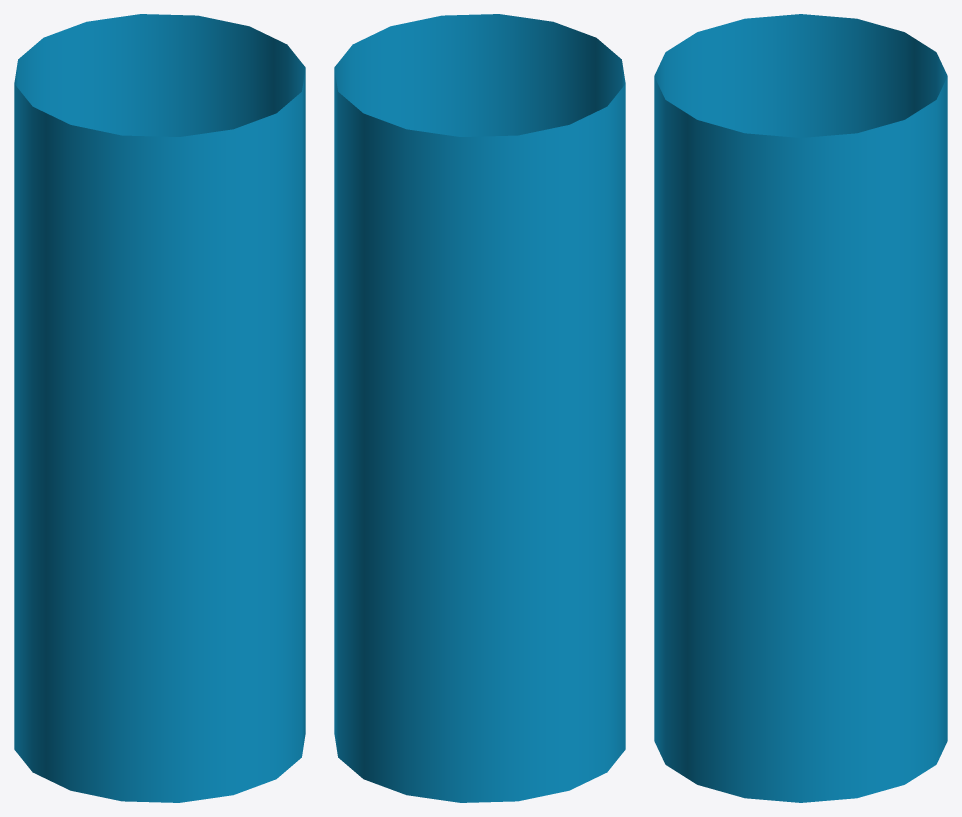
Rendered from pipe_straight_2m.gltf.
The picture shows the model from 3 angles, left to right: view 1: azimuth 30°, elevation 25°; view 2: azimuth 150°, elevation 25°; view 3: azimuth 270°, elevation 25°; orthographic projection.
Parts seen in each view (by area): view 1: pipe_straight_2m; view 2: pipe_straight_2m; view 3: pipe_straight_2m.
Part boxes in pixels (<box>): pipe_straight_2m: <box>14,14,305,802</box>; pipe_straight_2m: <box>334,14,625,802</box>; pipe_straight_2m: <box>654,14,947,802</box>.
Size of the model in its own units: 0.4 by 1 by 0.4.
